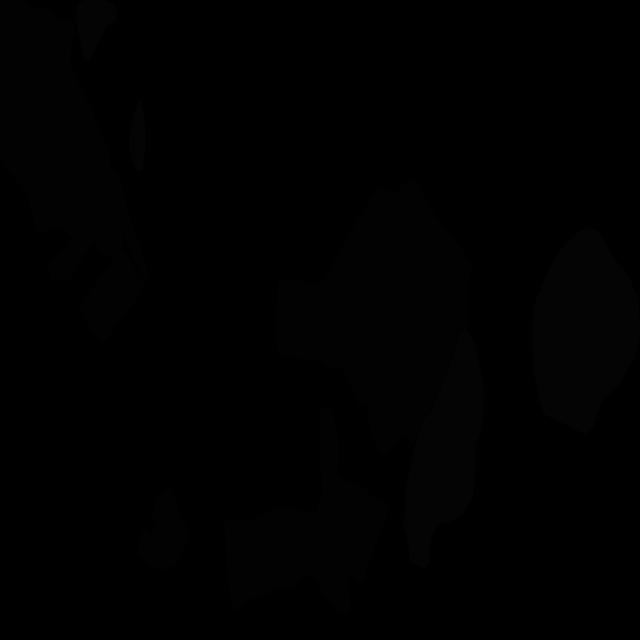cardboard: (276, 177, 473, 454), (224, 407, 390, 615), (79, 249, 145, 344), (138, 486, 189, 571)
soft_plastic: (532, 227, 640, 435), (402, 328, 484, 570), (76, 0, 118, 61), (129, 98, 146, 172)
